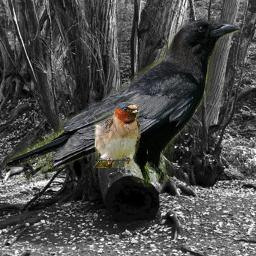Crow: (4, 20, 242, 187)
Swallow: (93, 102, 142, 168)
